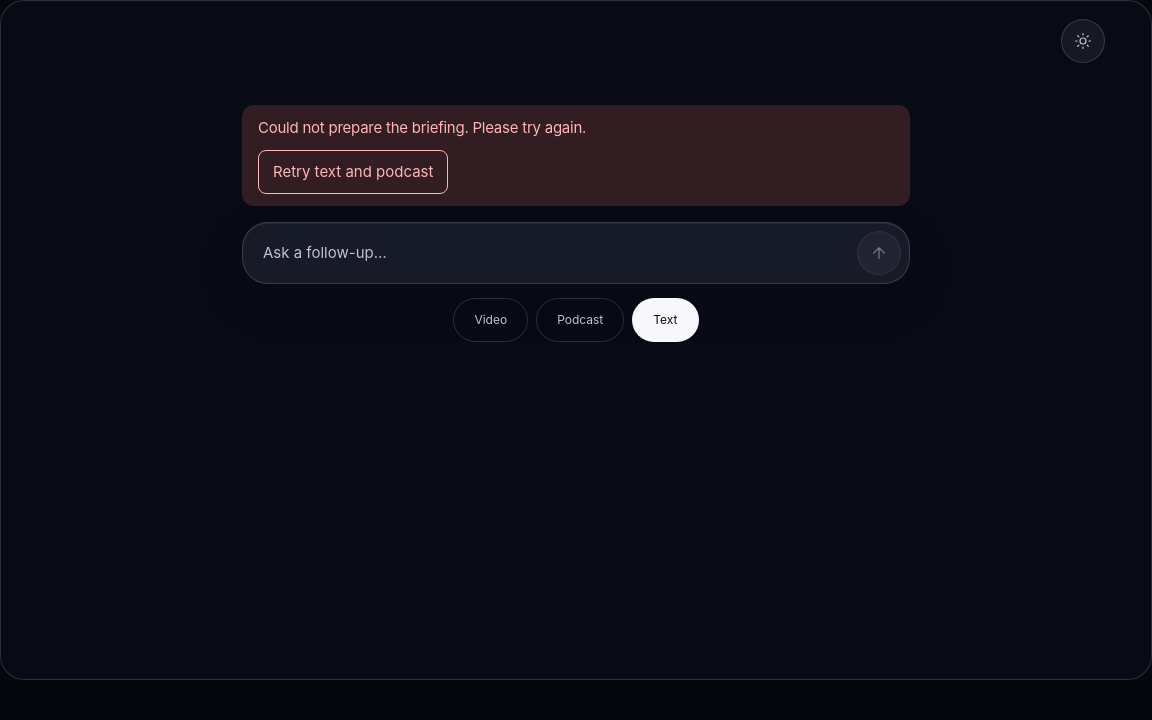
it: retries failed text and podcast preparation without restarting the video
This screenshot has width=1152, height=720.
Expected: the message shows "Could not prepare", left=258, top=118, right=586, bottom=137
What coordinates should you click on to do the following:
click the button "Retry text and podcast"
I would click on:
 (353, 172)
Its box is left=258, top=150, right=448, bottom=194.
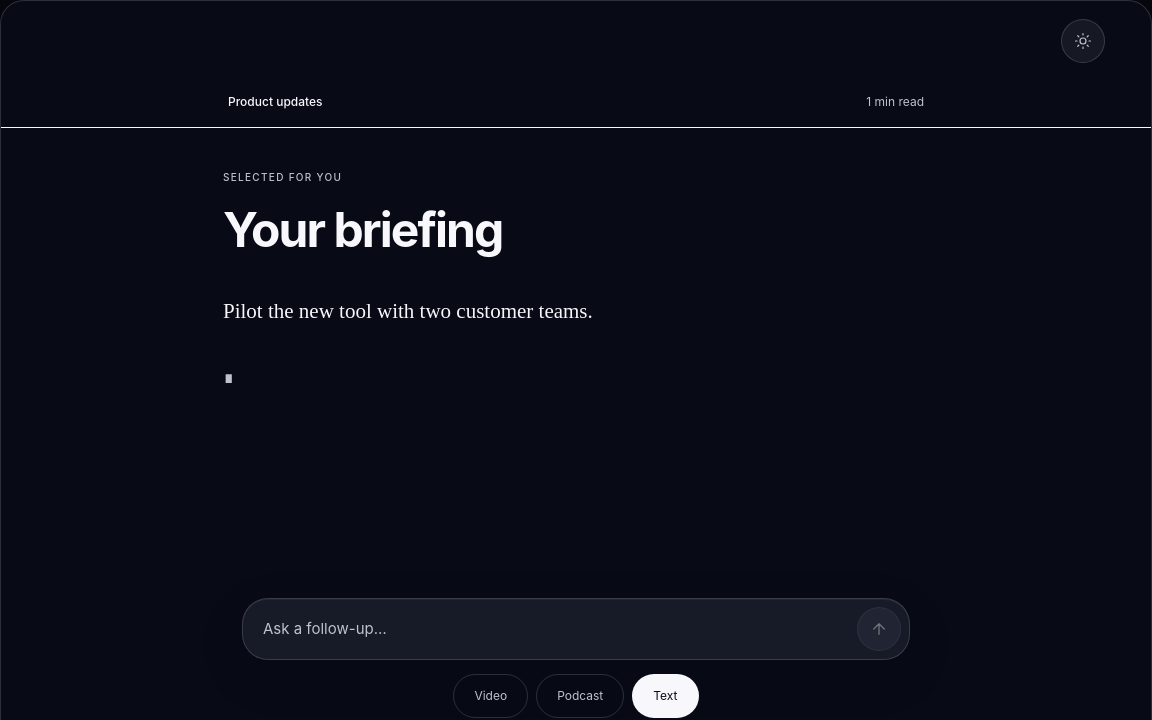
Result: the message "Could not prepare the briefing. Please try again. Retry text and podcast" is gone
Result: the element named "Generated text" shows "Pilot the new tool with two customer teams." at left=223, top=299, right=593, bottom=323
